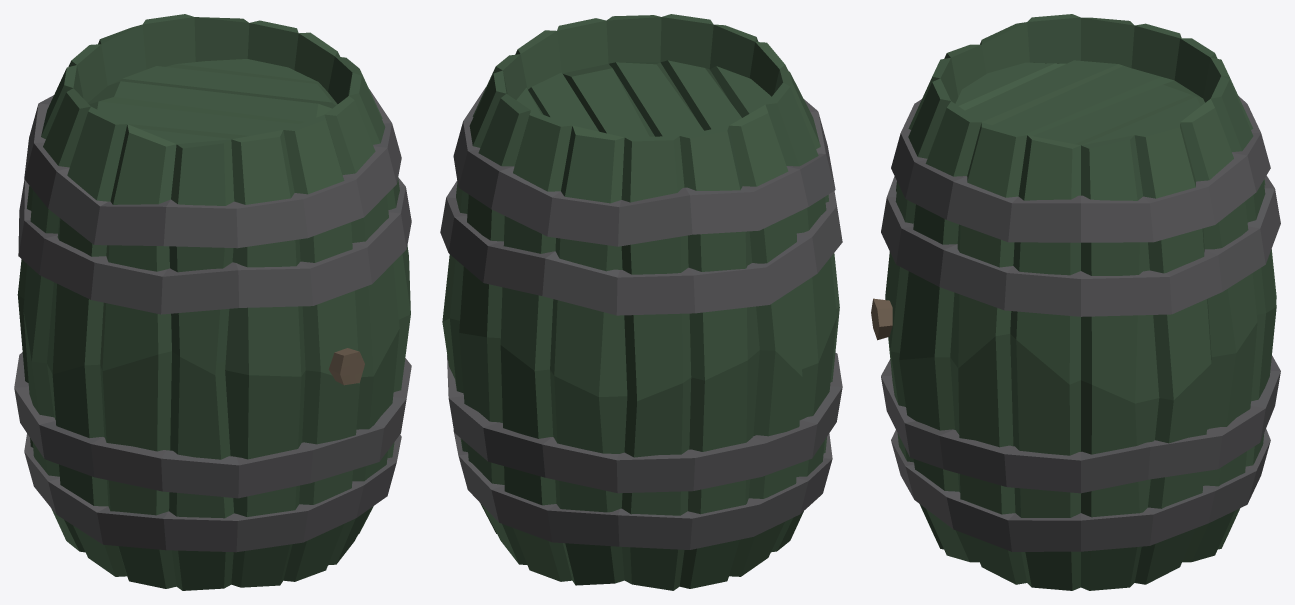
File: SM_Prop_Barrel_02.glb
The picture shows the model from 3 angles, left to right: view 1: azimuth 30°, elevation 25°; view 2: azimuth 150°, elevation 25°; view 3: azimuth 270°, elevation 25°; orthographic projection.
Parts seen in each view (by area): view 1: SM_Prop_Barrel_02; view 2: SM_Prop_Barrel_02; view 3: SM_Prop_Barrel_02.
Part boxes in pixels (bbox=[...]): SM_Prop_Barrel_02: bbox=[14, 14, 411, 590]; SM_Prop_Barrel_02: bbox=[440, 14, 842, 590]; SM_Prop_Barrel_02: bbox=[871, 14, 1280, 590].
Size of the model in its own units: 0.00858 by 0.0107 by 0.00879.
